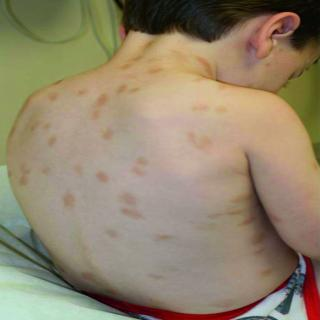urticaria: (208, 209, 265, 231), (183, 127, 222, 153), (255, 237, 278, 281), (121, 191, 142, 225), (181, 106, 235, 119), (117, 80, 154, 96), (43, 87, 66, 108), (61, 190, 81, 214), (28, 119, 55, 134), (129, 158, 150, 177), (90, 96, 109, 117), (148, 56, 168, 75), (14, 163, 30, 182), (93, 172, 116, 182), (156, 231, 175, 242), (118, 58, 134, 71), (99, 132, 120, 141)
